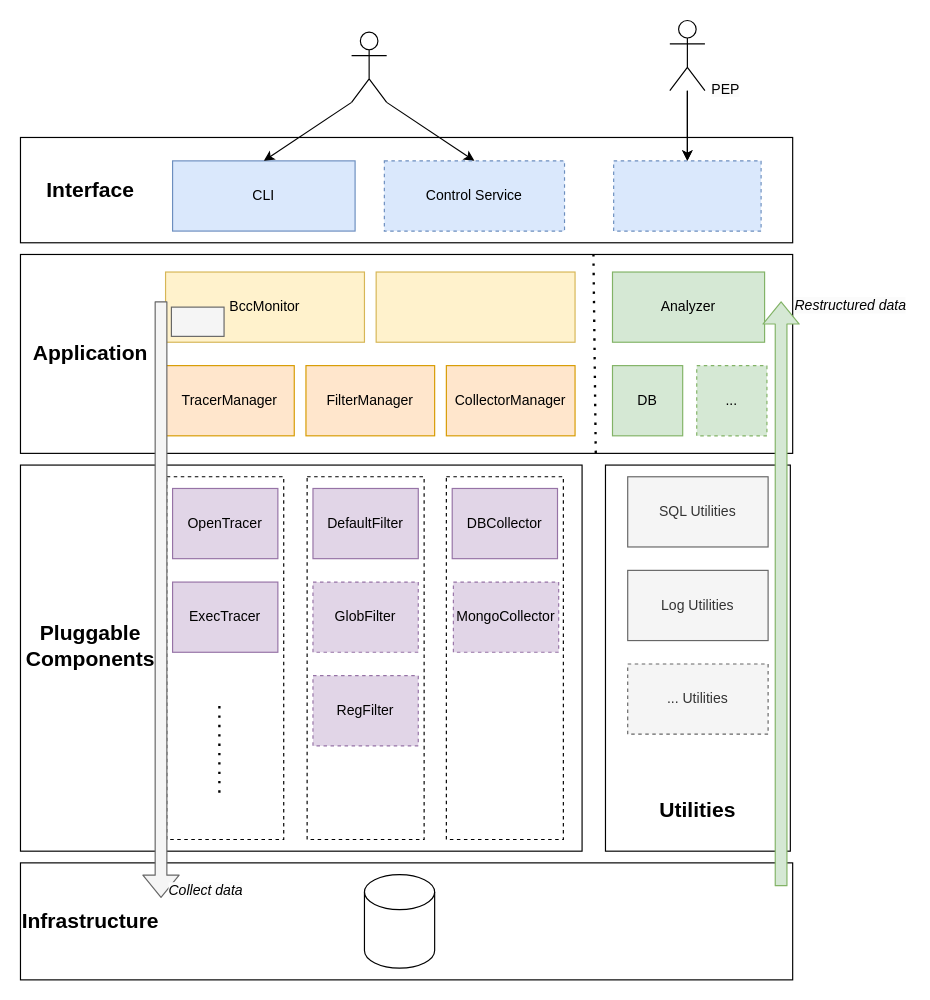
The diagram is 930 pixels wide and 1000 high, and some of its shapes have lost their labels. The centre of each missing label's shape, as x and y in pixels:
Admin: [368,66]
bcc: [197,321]
Query Service: [686,195]
ShMonitor: [475,306]
tracking data: [399,920]
